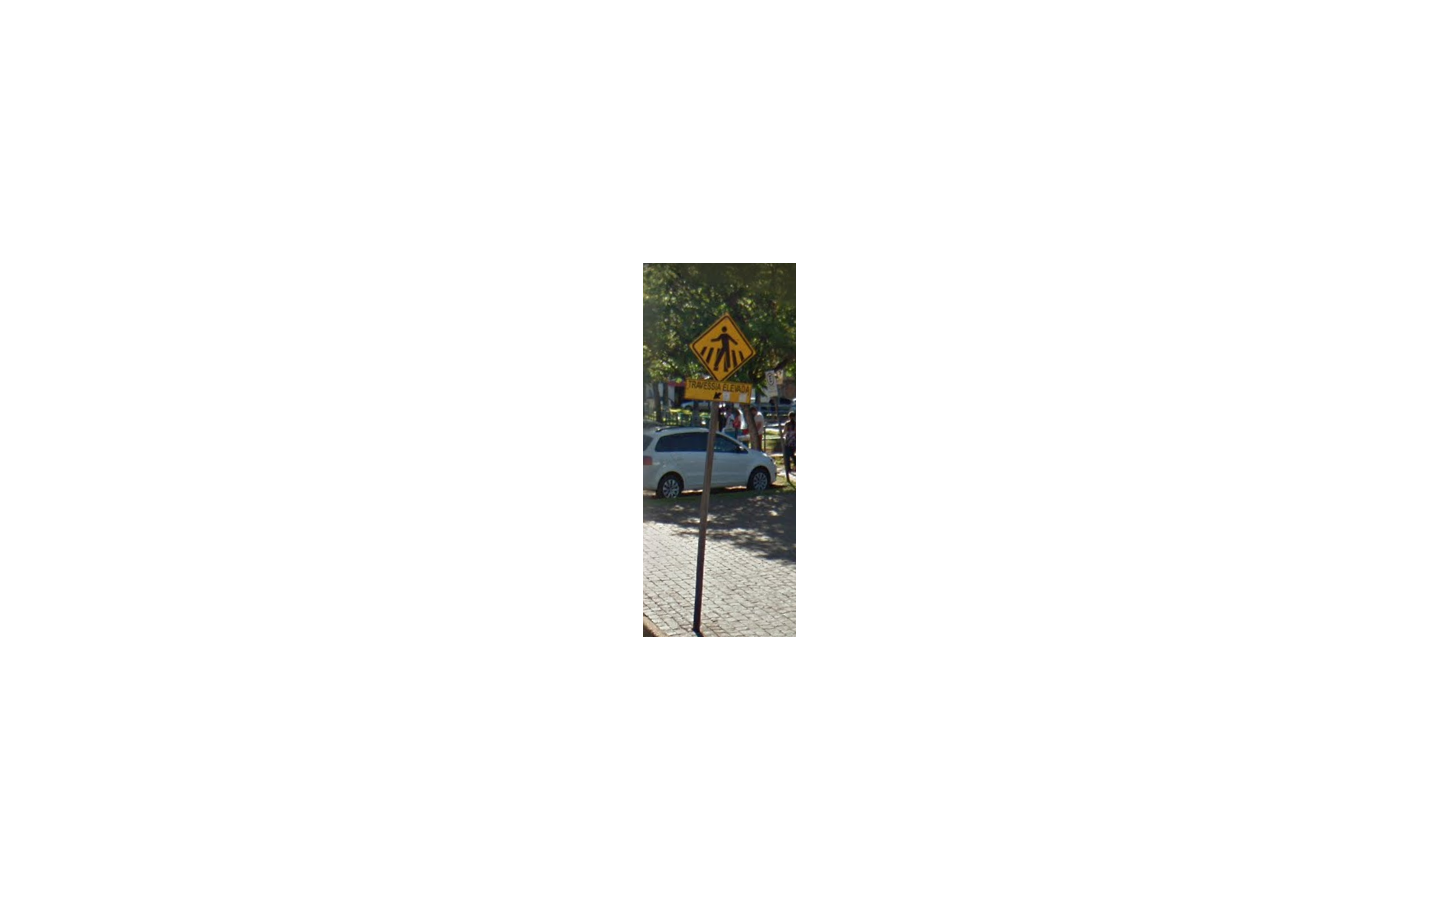telev: (683, 314, 755, 404)
